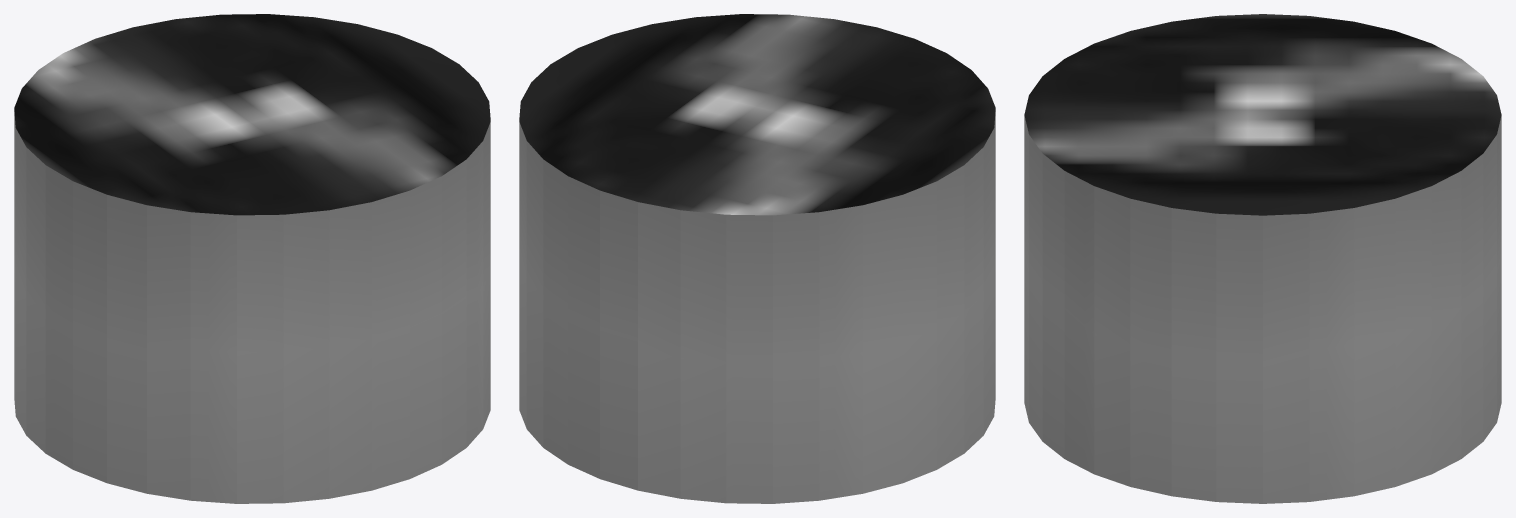
File: previous.glb
The picture shows the model from 3 angles, left to right: view 1: azimuth 30°, elevation 25°; view 2: azimuth 150°, elevation 25°; view 3: azimuth 270°, elevation 25°; orthographic projection.
Parts seen in each view (by area): view 1: Cylinder; view 2: Cylinder; view 3: Cylinder.
Boxes of the visible parts, bbox=[...] form: Cylinder: bbox=[14, 14, 490, 503]; Cylinder: bbox=[519, 14, 995, 503]; Cylinder: bbox=[1024, 14, 1501, 503].
Size of the model in its own units: 0.03 by 0.02 by 0.03.
1 material, 1 textured.
